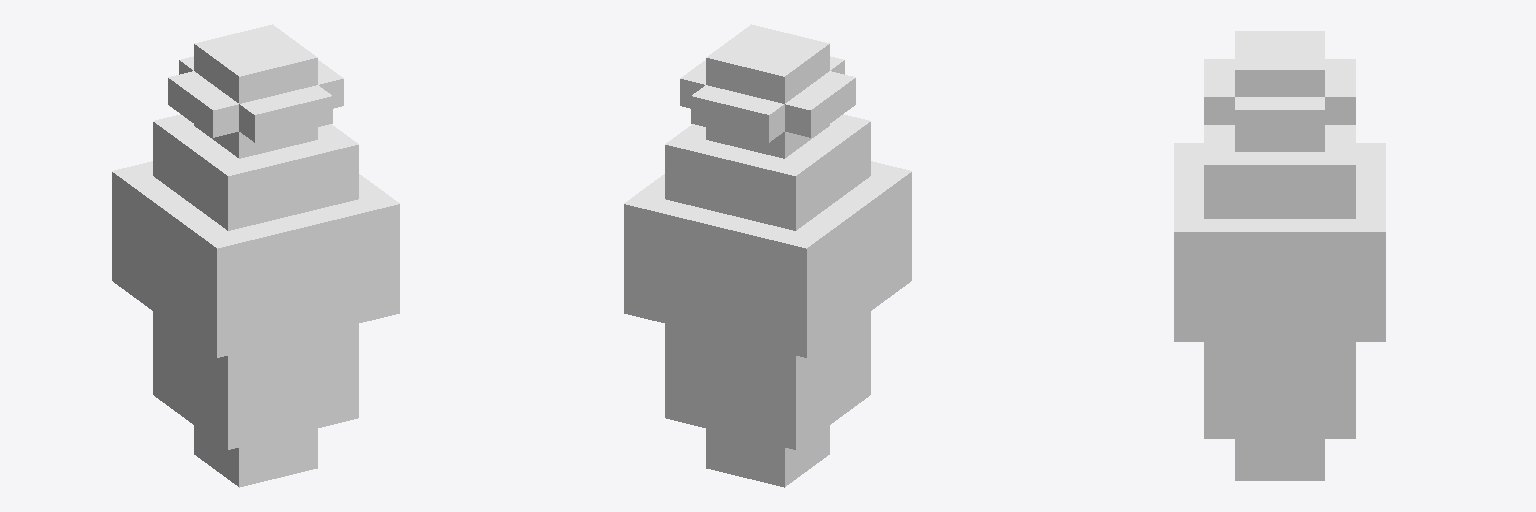
File: my_carrot.obj
The picture shows the model from 3 angles: view 1: azimuth 30°, elevation 25°; view 2: azimuth 150°, elevation 25°; view 3: azimuth 270°, elevation 25°; orthographic projection.
Visible parts, largest first — view 1: my_carrot; view 2: my_carrot; view 3: my_carrot.
Part boxes in pixels (x1,y1,x2,y2): my_carrot: (112,24,399,487); my_carrot: (624,24,911,487); my_carrot: (1174,31,1385,480).
Size of the model in its own units: 7 by 15 by 7.